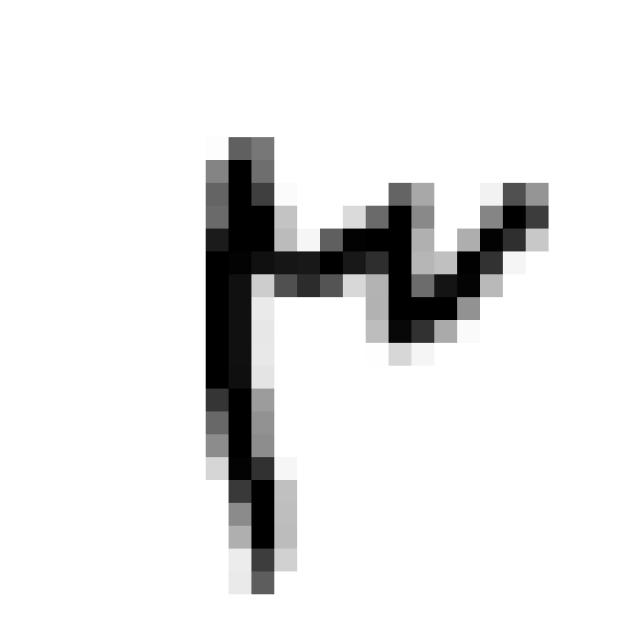3 -three-: (176, 114, 567, 612)
